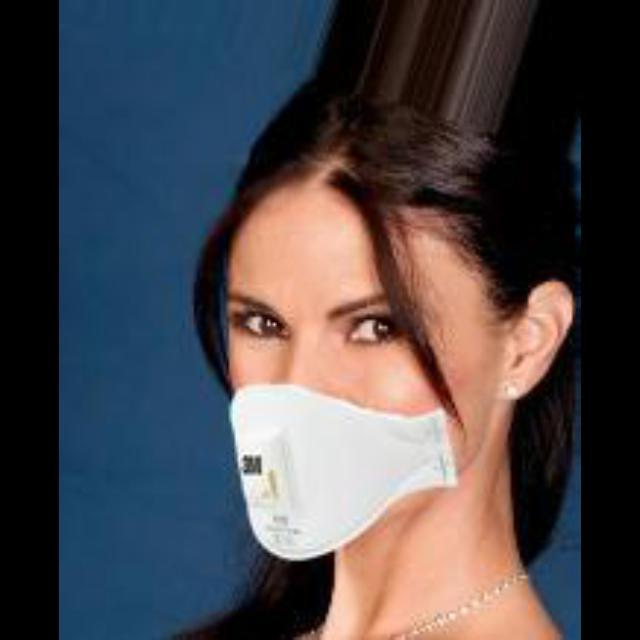suspicion: (170, 147, 530, 558)
